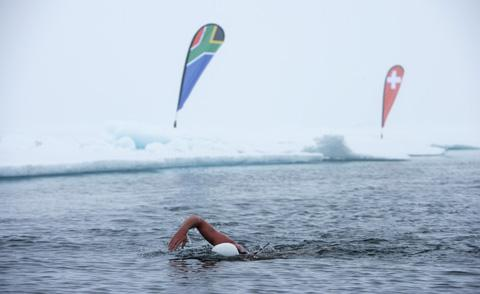swimmer: (166, 212, 250, 260)
